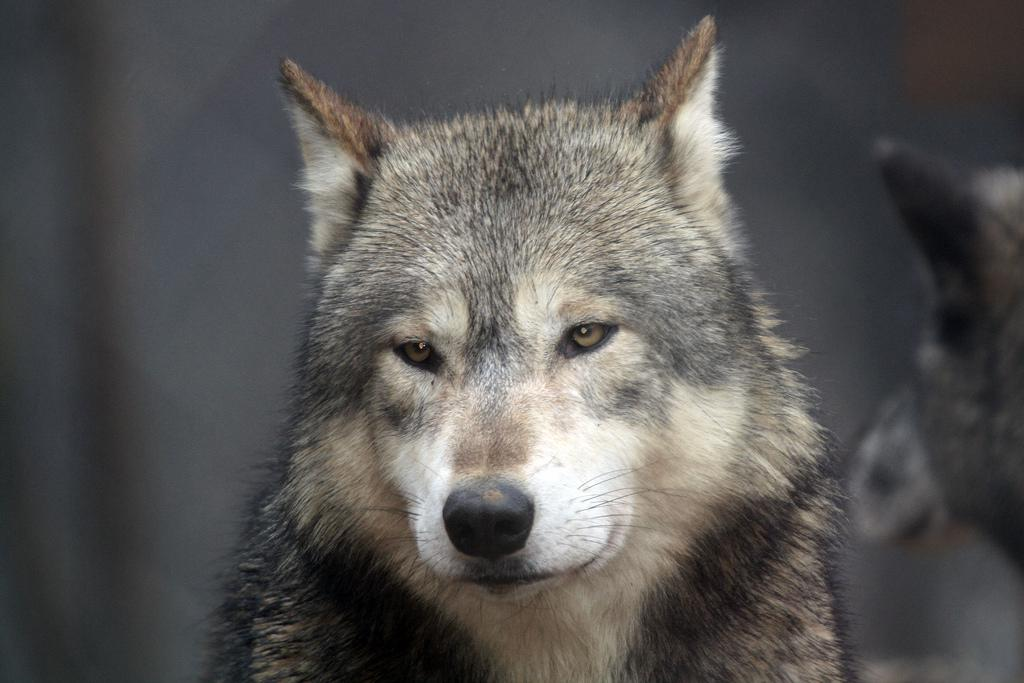Wolf: (205, 13, 852, 683), (839, 145, 1024, 581)
